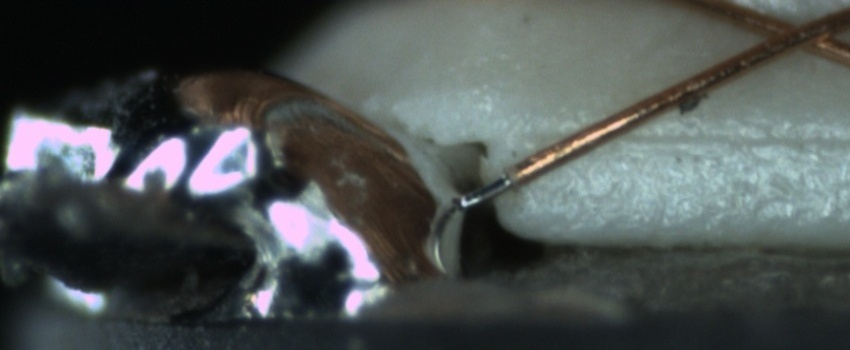CL: (751, 6, 843, 60)
DL: (537, 104, 850, 171)
TS: (459, 175, 515, 207)
TTCW: (460, 149, 559, 208)
